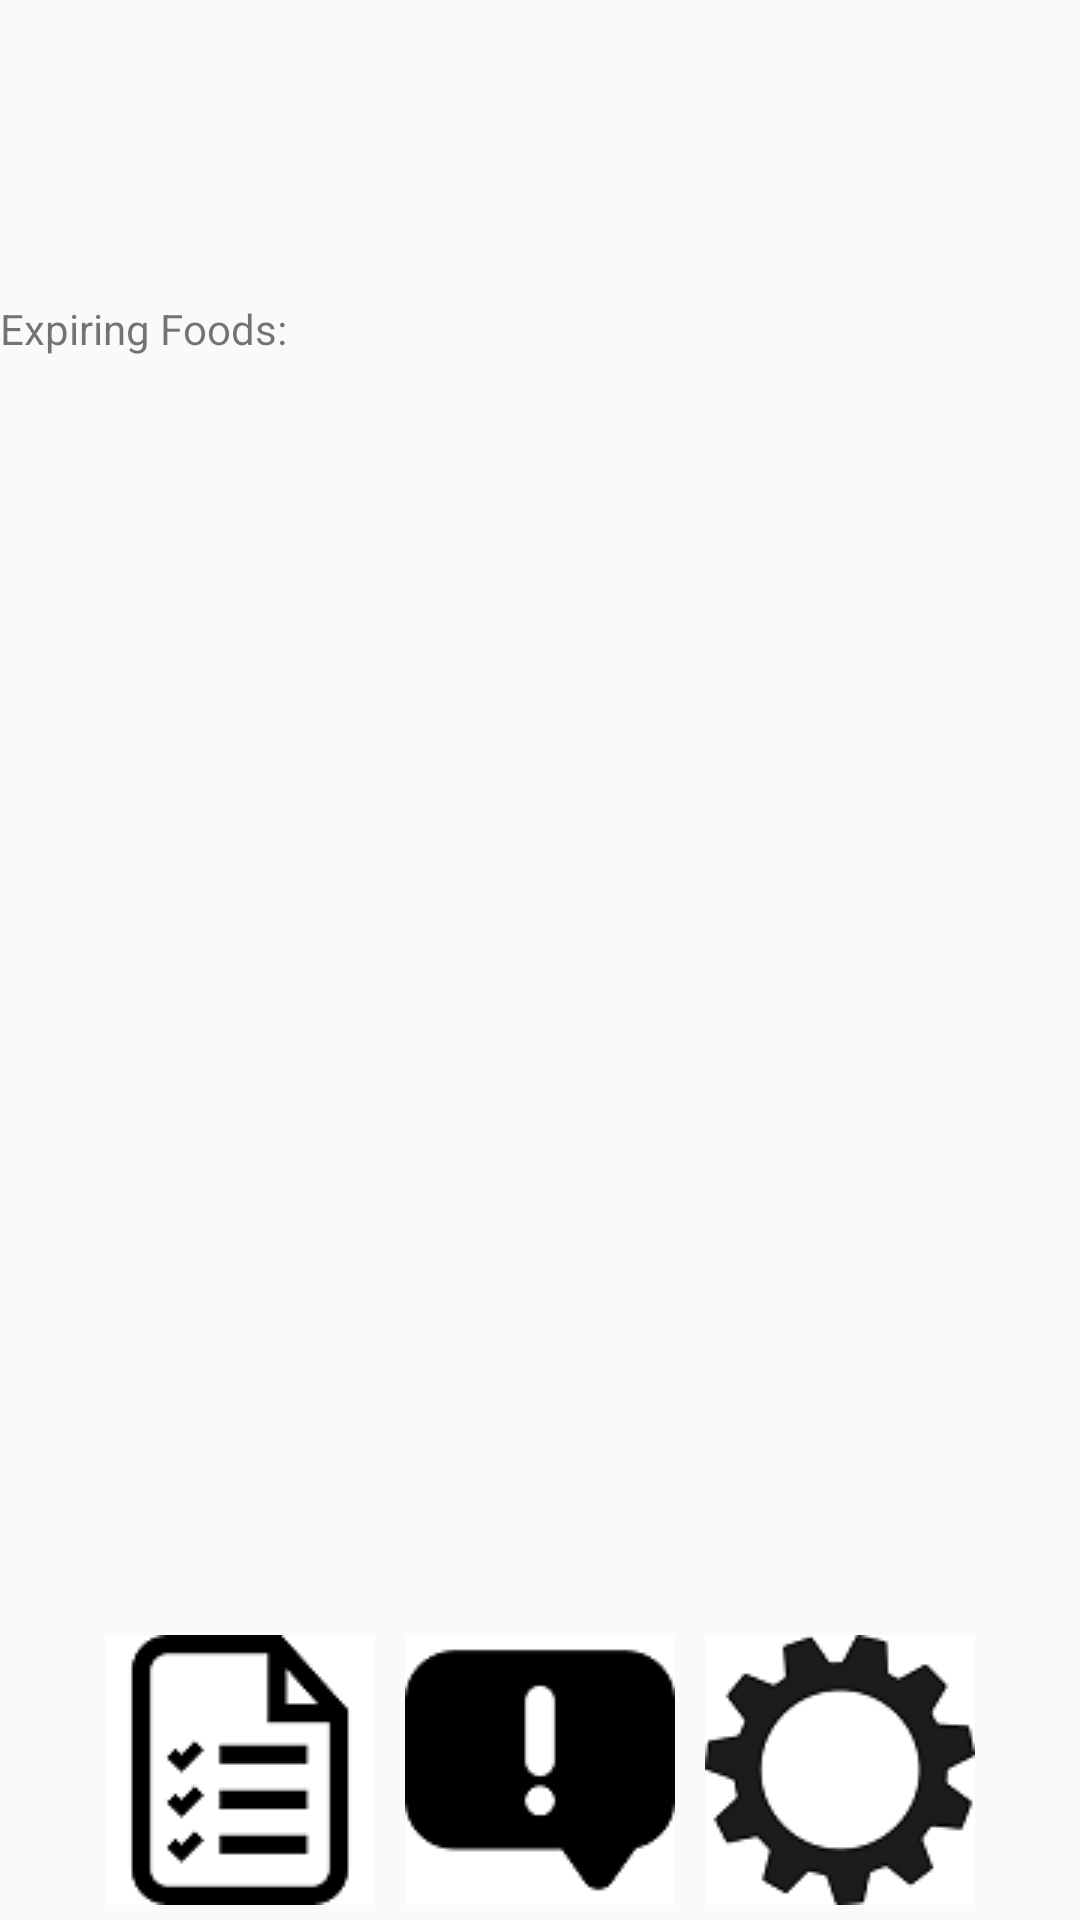

Where to tap for icons on this 1080*1920 app screen, as point (x, y):
alert: point (540, 1770)
settings gear: point (840, 1770)
